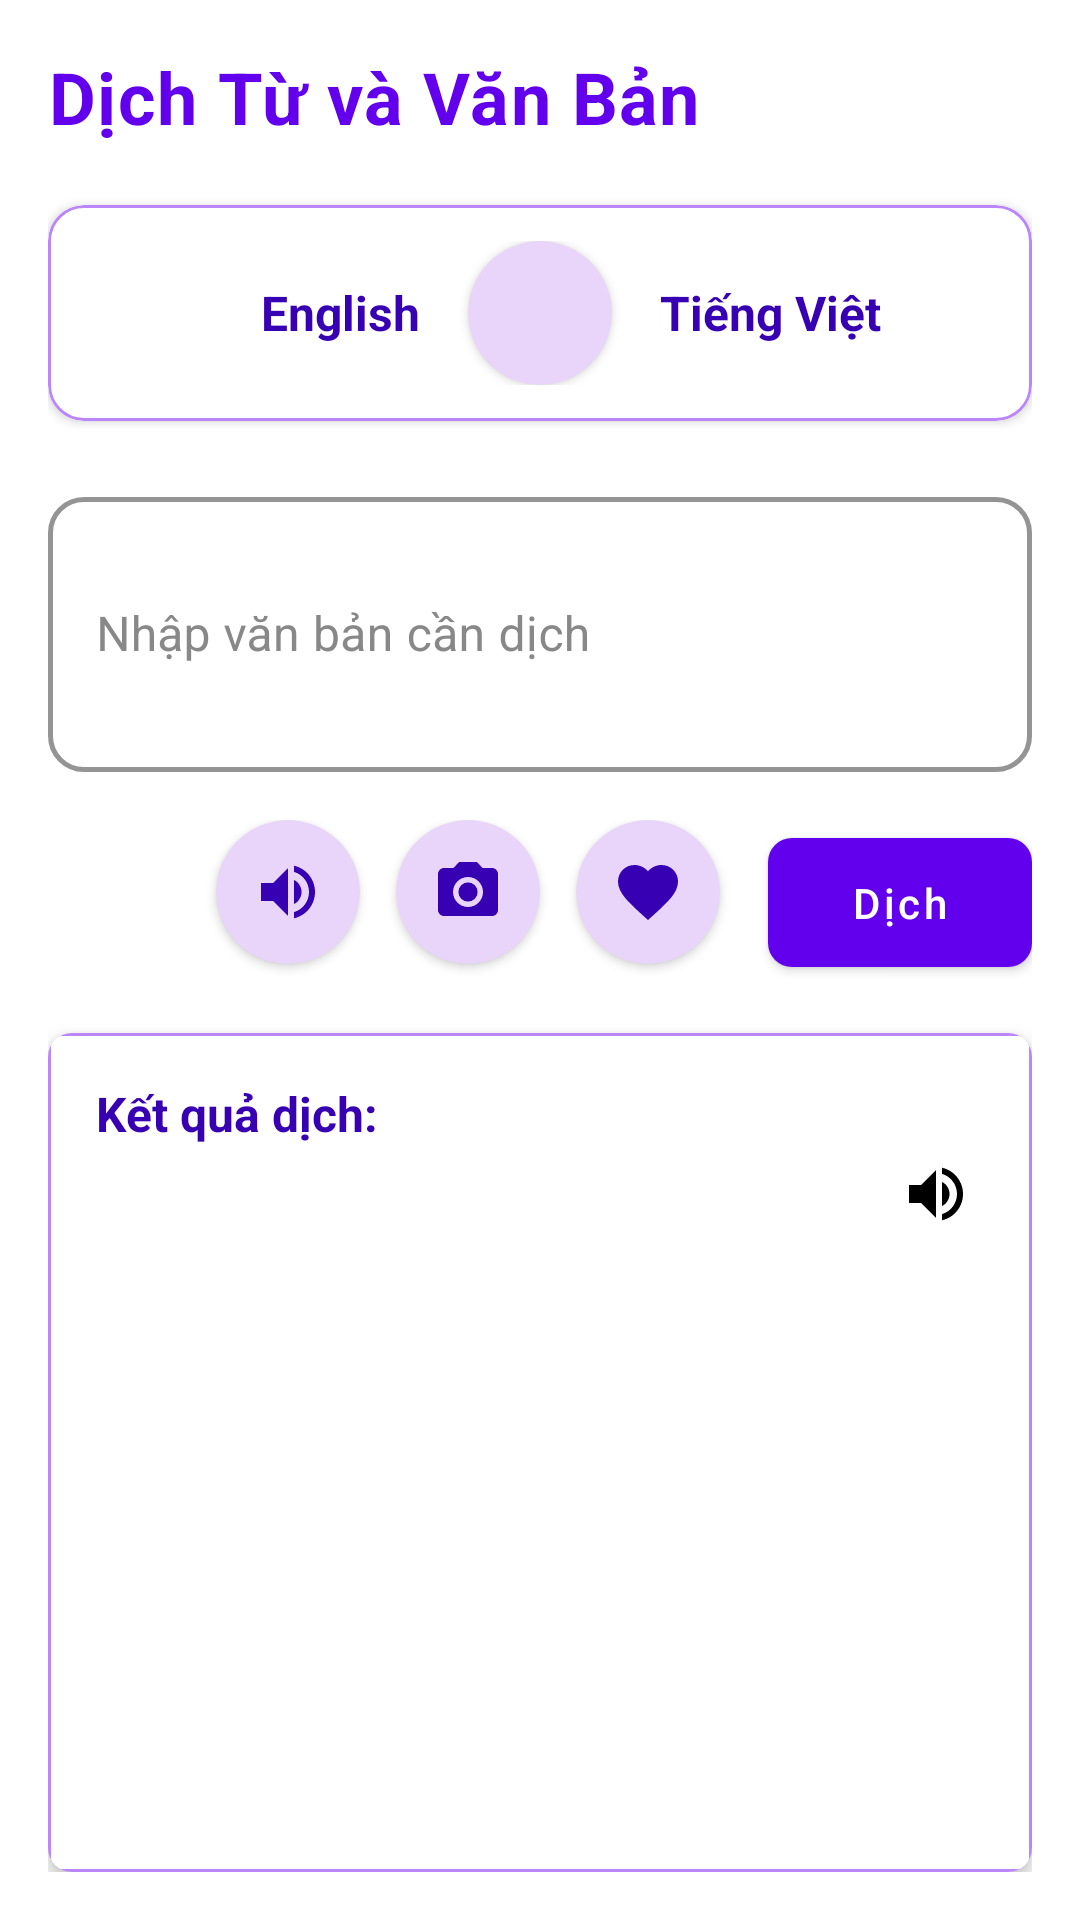

Screen size 1080×1920. Icon name, then its center in pixels as (x=x, y=y):
Add to favorites: (x=648, y=892)
Phát âm bản dịch: (x=936, y=1194)
Phát âm văn bản: (x=288, y=892)
Scan text from image: (x=468, y=892)
